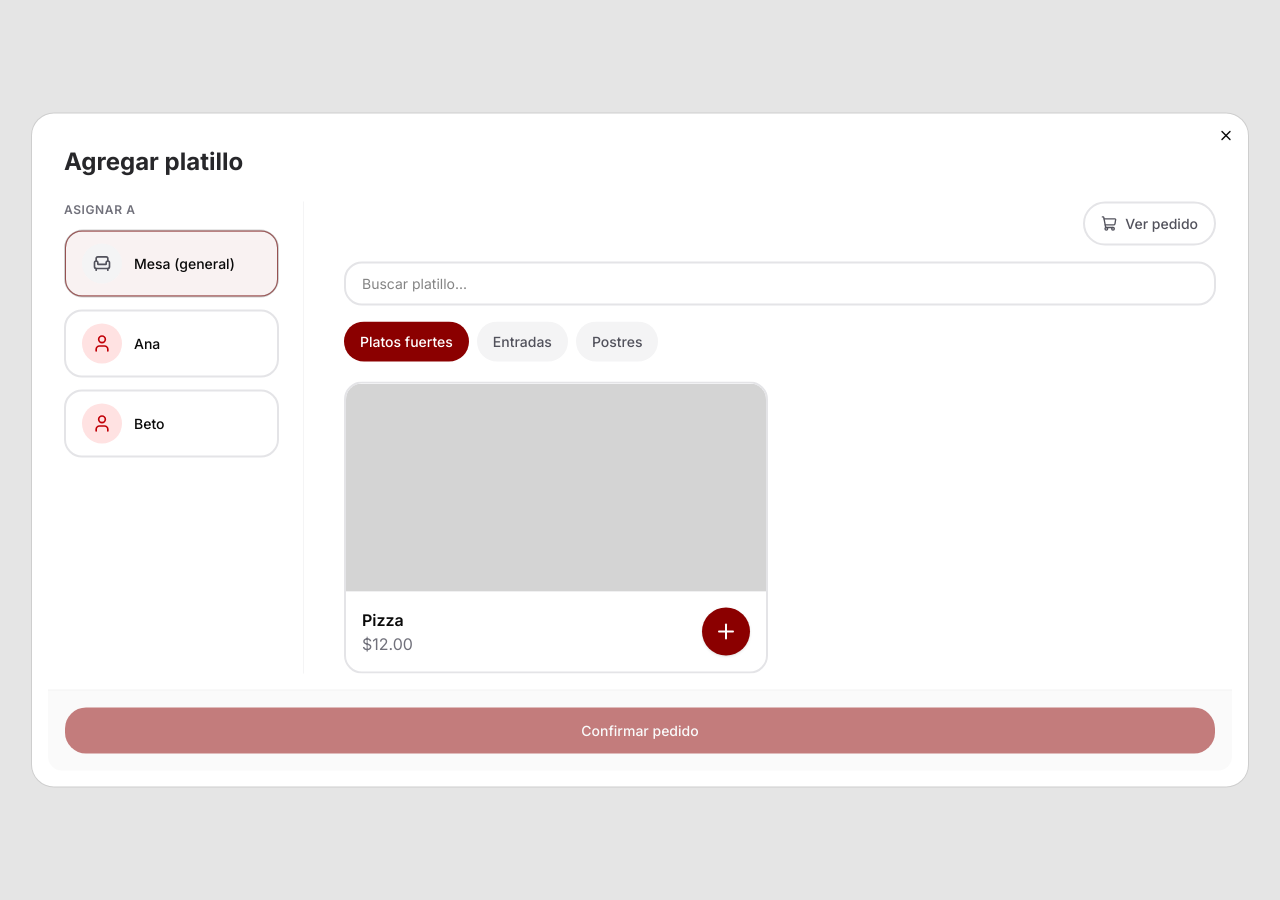
it: AddItemModal › tapping "+" again bumps the quantity in the cart
This screenshot has width=1280, height=900.
Check: the text "Pizza" is shown, box [362,610,404,630]
Click the button named "Agregar Pizza" at (726, 632), box [702,608,750,656]
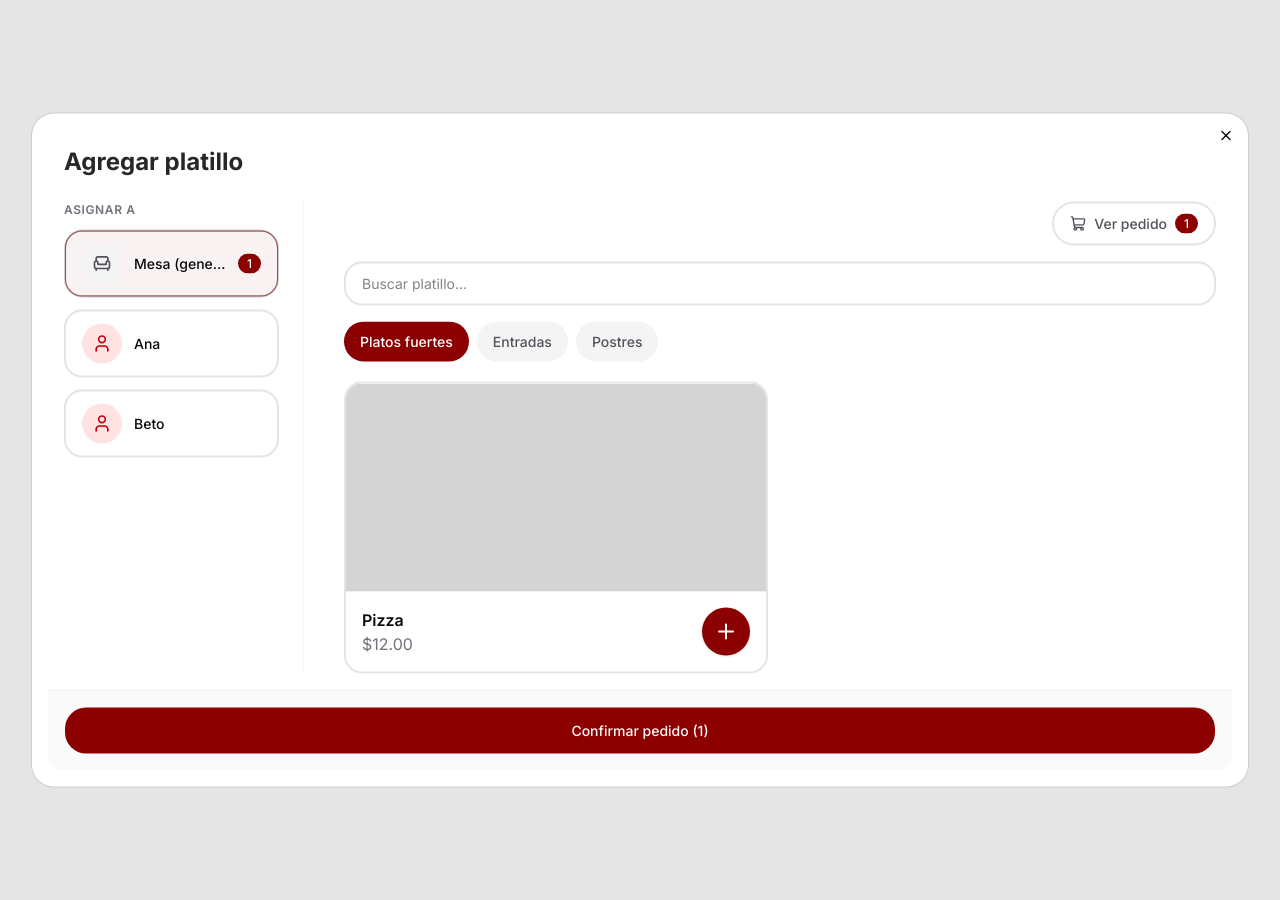
Click the button named "Agregar Pizza" at (726, 632), box [702,608,750,656]
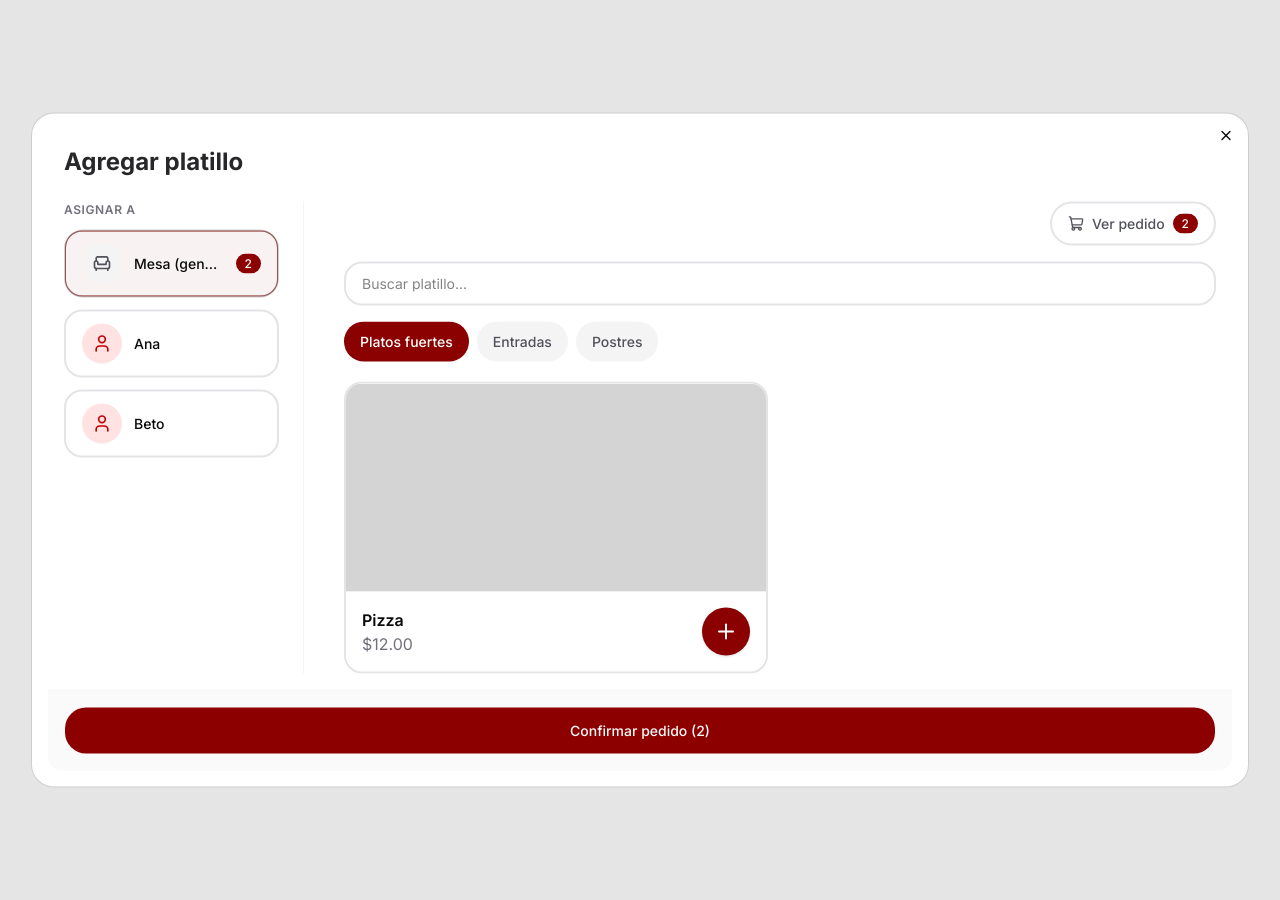
Click the button "Ver pedido 2" at (1133, 224), box [1050,202,1216,246]
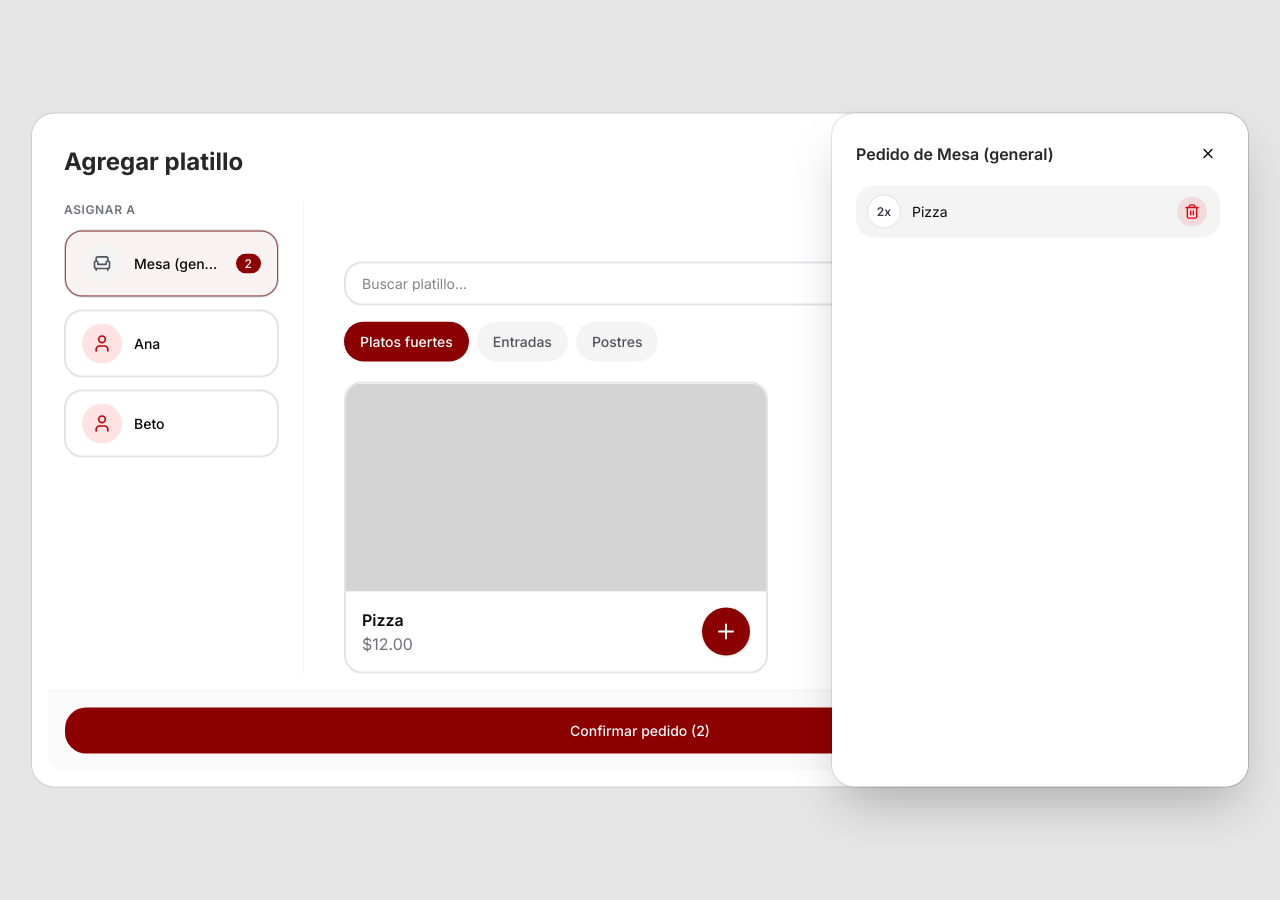
Check: the text "2x" is shown, box [868,196,900,228]
